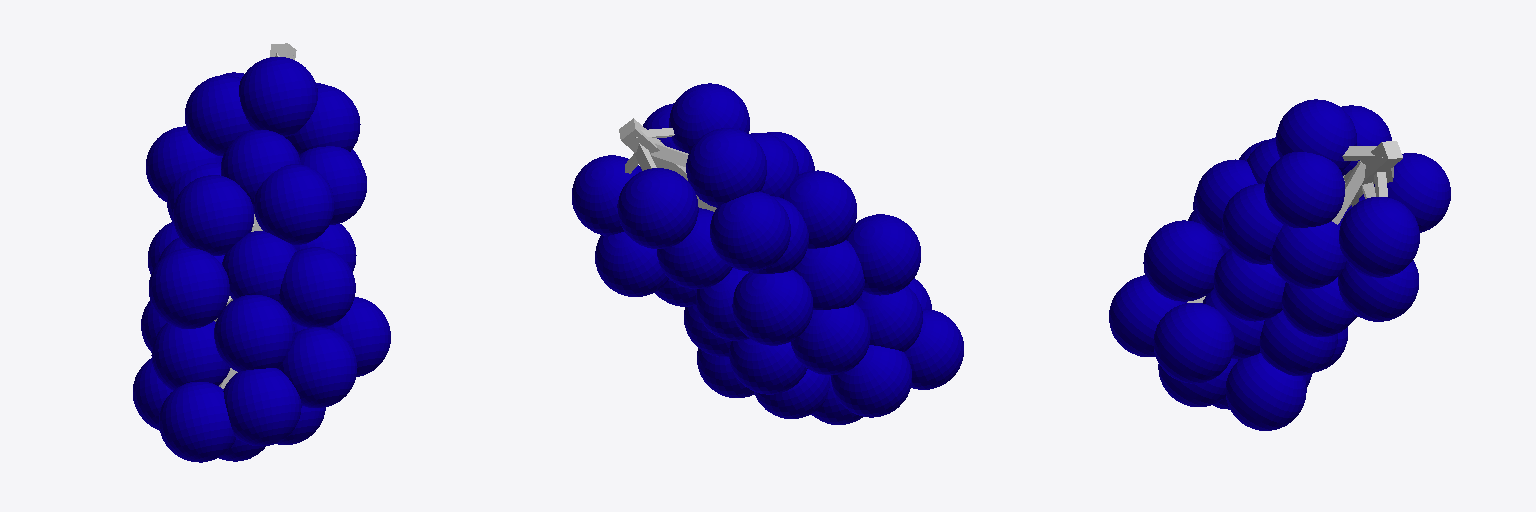
Rendered from uvas.obj.
3 views of the same model, side by side, from view 1: azimuth 30°, elevation 25°; view 2: azimuth 150°, elevation 25°; view 3: azimuth 270°, elevation 25° (orthographic).
Visible parts, largest first — view 1: Esfera.032, Esfera.031, Esfera.033, Esfera.017, Esfera.020, Esfera.002, Esfera.016, Esfera.015, Esfera.001, Esfera.013, Esfera.006, Esfera.018 (+12 smaller); view 2: Esfera.021, Esfera.007, Esfera.026, Esfera.006, Esfera.032, Esfera.030, Esfera.028, Esfera.033, Esfera.020, Esfera.003, Esfera.011, Esfera.004 (+15 smaller); view 3: Esfera.003, Esfera.036, Esfera.034, Esfera.002, Esfera.037, Esfera.008, Esfera.020, Esfera.010, Esfera.001, Esfera.004, Esfera.035, Esfera.021 (+9 smaller).
Part boxes in pixels (x1,y1,x2,y2): Esfera.032: (149,248,229,328); Esfera.031: (253,164,334,244); Esfera.033: (173,175,253,255); Esfera.017: (214,295,294,371); Esfera.020: (239,57,317,136); Esfera.002: (279,247,355,327); Esfera.016: (223,368,301,446); Esfera.015: (159,382,235,462); Esfera.001: (278,327,357,407); Esfera.013: (151,321,230,390); Esfera.006: (185,75,253,155); Esfera.018: (222,231,296,301); Esfera.021: (617,168,698,248); Esfera.007: (710,191,790,271); Esfera.026: (732,270,812,345); Esfera.006: (686,128,766,207); Esfera.032: (846,214,920,295); Esfera.030: (831,345,911,417); Esfera.028: (791,303,870,374); Esfera.033: (782,170,856,248); Esfera.020: (669,83,749,153); Esfera.003: (572,155,641,235); Esfera.011: (792,240,864,309); Esfera.004: (595,232,668,296); Esfera.003: (1339,197,1419,277); Esfera.036: (1153,303,1234,383); Esfera.034: (1264,152,1344,227); Esfera.002: (1144,220,1223,301); Esfera.037: (1225,353,1306,430); Esfera.008: (1270,221,1346,288); Esfera.020: (1276,99,1356,171); Esfera.010: (1214,249,1285,321); Esfera.001: (1109,276,1186,356); Esfera.004: (1338,260,1418,321); Esfera.035: (1222,183,1282,264); Esfera.021: (1374,153,1450,232).
Bounding box in the file's own units: 5.61 × 6.54 × 5.88.